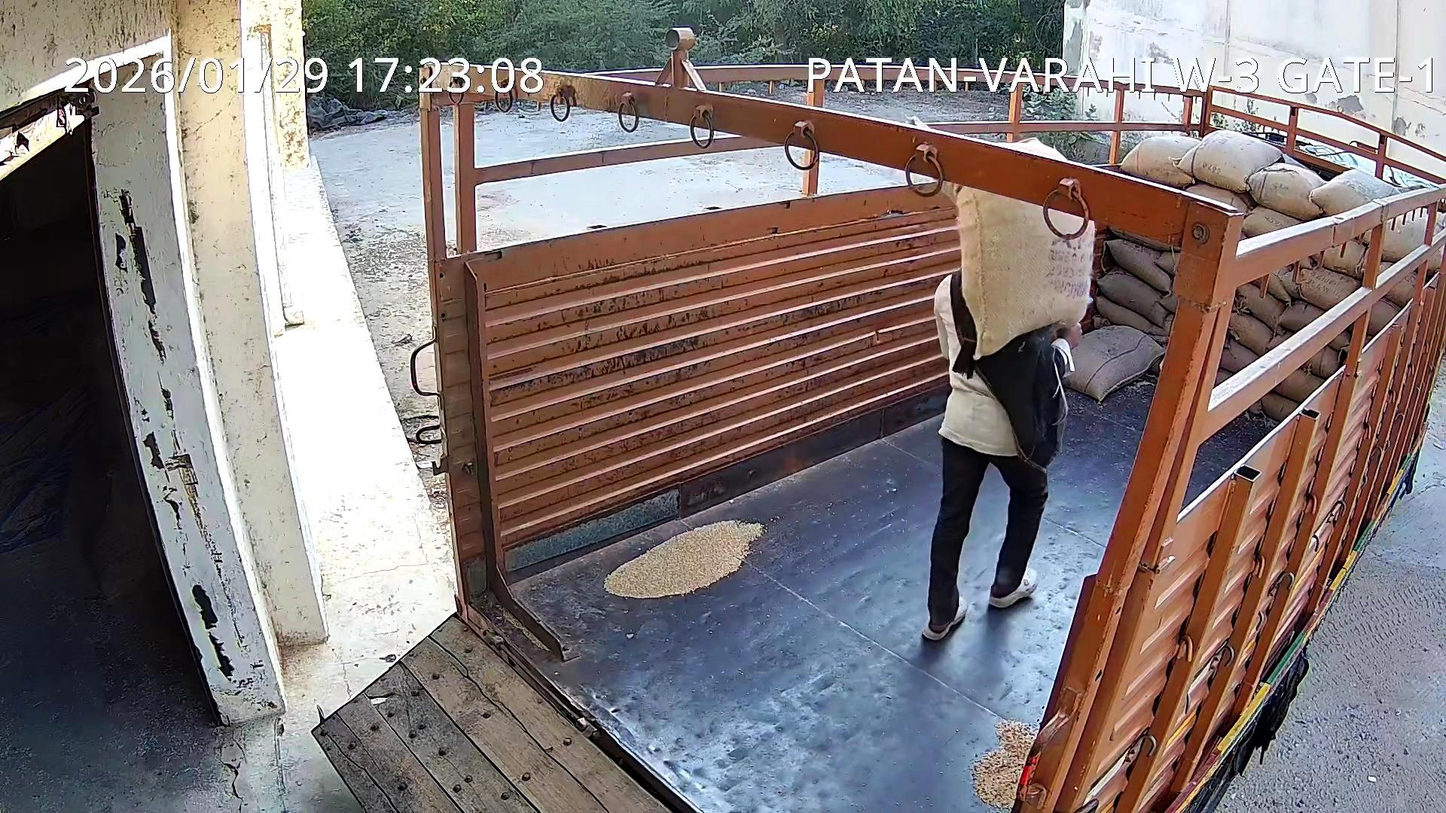Sack: (942, 181, 1094, 359)
